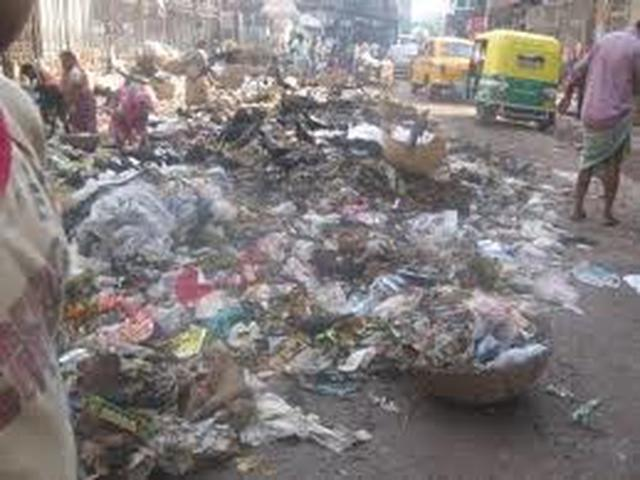garbage: (128, 106, 471, 395)
